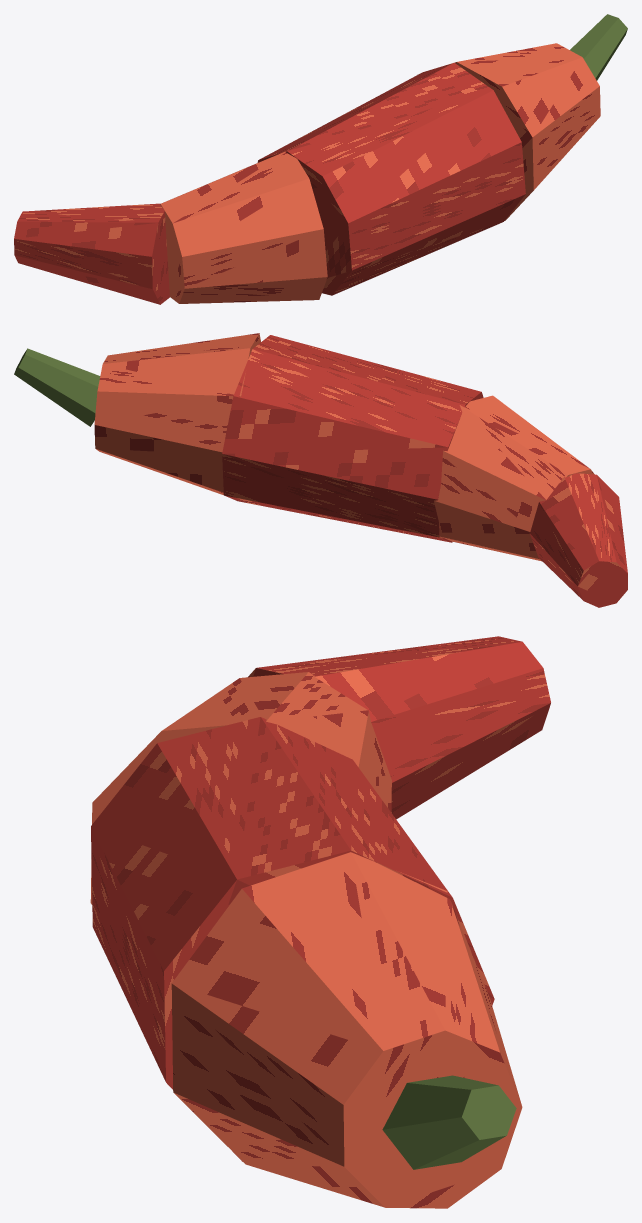
Rendered from chili_pepper.glb.
The picture shows the model from 3 angles, top to bottom: view 1: azimuth 30°, elevation 25°; view 2: azimuth 150°, elevation 25°; view 3: azimuth 270°, elevation 25°; orthographic projection. The views are drawn at different scales.
Visible parts, largest first — view 1: block_curved chili 2, block_curved chili 1, block_curved chili 0, block_curved chili 3, block_green peduncle; view 2: block_curved chili 2, block_curved chili 3, block_curved chili 1, block_curved chili 0, block_green peduncle; view 3: block_curved chili 3, block_curved chili 2, block_curved chili 0, block_curved chili 1, block_green peduncle.
Boxes of the visible parts, bbox=[...] form: block_curved chili 2: bbox=[257, 62, 525, 295]; block_curved chili 1: bbox=[160, 150, 327, 303]; block_curved chili 0: bbox=[14, 203, 169, 304]; block_curved chili 3: bbox=[417, 43, 600, 220]; block_green peduncle: bbox=[570, 14, 627, 80]; block_curved chili 2: bbox=[222, 335, 483, 542]; block_curved chili 3: bbox=[94, 333, 260, 495]; block_curved chili 1: bbox=[434, 395, 594, 561]; block_curved chili 0: bbox=[529, 473, 627, 607]; block_green peduncle: bbox=[14, 348, 100, 426]; block_curved chili 3: bbox=[171, 852, 522, 1208]; block_curved chili 2: bbox=[91, 717, 494, 1161]; block_curved chili 0: bbox=[248, 636, 550, 819]; block_curved chili 1: bbox=[90, 672, 391, 904]; block_green peduncle: bbox=[382, 1075, 516, 1169].
Bounding box in the file's own units: 0.0746 × 0.0193 × 0.0243.
1 material, 1 textured.
